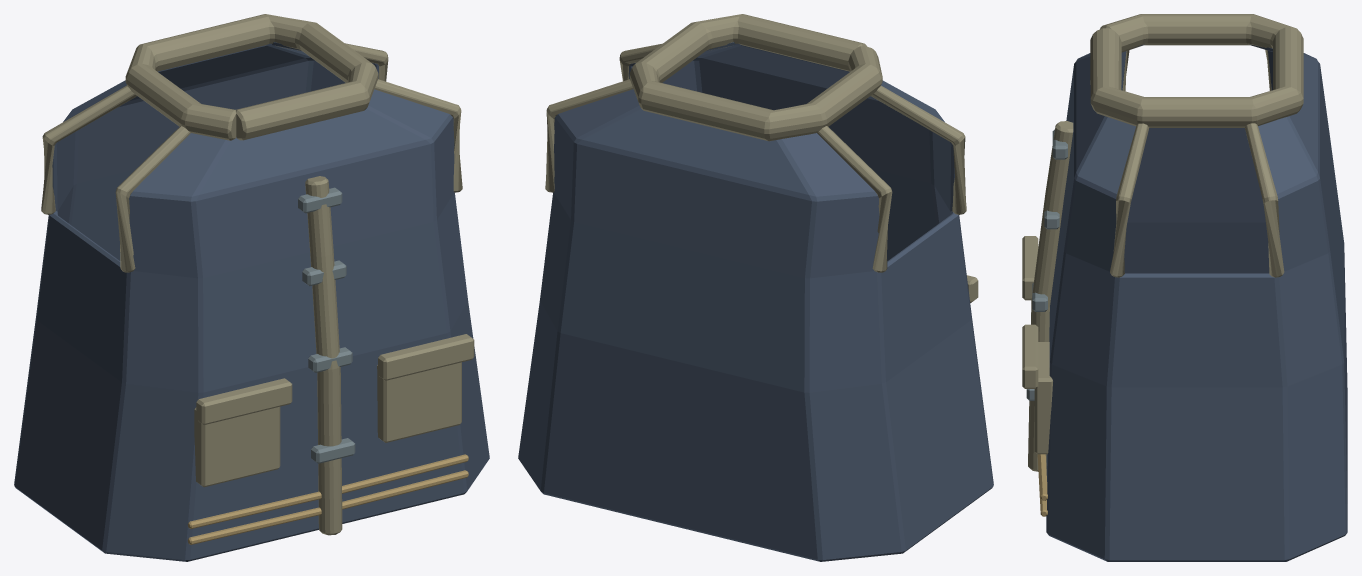
Rendered from WardenCoat.glb.
3 views of the same model, side by side, from view 1: azimuth 30°, elevation 25°; view 2: azimuth 150°, elevation 25°; view 3: azimuth 270°, elevation 25° (orthographic).
Parts seen in each view (by area): view 1: Protective coat, Raised collar, Front placket, Utility pocket, Utility pocket.001, Armhole binding, Pocket flap, Pocket flap.001, Hem stitching, Hem stitching.001, Armhole binding.001, Fastener (+2 smaller); view 2: Protective coat, Raised collar, Armhole binding, Armhole binding.001; view 3: Protective coat, Raised collar, Armhole binding.001, Front placket, Utility pocket.001, Pocket flap.001, Pocket flap.
Part boxes in pixels (left/top/right/bottom): Protective coat: left=14, top=42, right=489, bottom=561; Raised collar: left=125, top=14, right=378, bottom=140; Front placket: left=305, top=176, right=342, bottom=535; Utility pocket: left=194, top=406, right=280, bottom=487; Utility pocket.001: left=377, top=362, right=461, bottom=442; Armhole binding: left=41, top=85, right=190, bottom=272; Pocket flap: left=196, top=378, right=292, bottom=424; Pocket flap.001: left=378, top=334, right=474, bottom=380; Hem stitching: left=187, top=470, right=468, bottom=544; Hem stitching.001: left=187, top=454, right=468, bottom=528; Armhole binding.001: left=345, top=43, right=462, bottom=192; Fastener: left=311, top=438, right=355, bottom=463; Protective coat: left=518, top=42, right=993, bottom=561; Raised collar: left=629, top=14, right=882, bottom=141; Armhole binding: left=817, top=85, right=966, bottom=272; Armhole binding.001: left=545, top=43, right=662, bottom=192; Protective coat: left=1046, top=44, right=1347, bottom=561; Raised collar: left=1090, top=14, right=1303, bottom=127; Armhole binding.001: left=1110, top=123, right=1284, bottom=277; Front placket: left=1028, top=121, right=1073, bottom=471; Utility pocket.001: left=1034, top=342, right=1052, bottom=454; Pocket flap.001: left=1022, top=324, right=1038, bottom=388; Pocket flap: left=1022, top=236, right=1038, bottom=300.
Size of the model in its own units: 0.6389 by 0.6485 by 0.4644.
